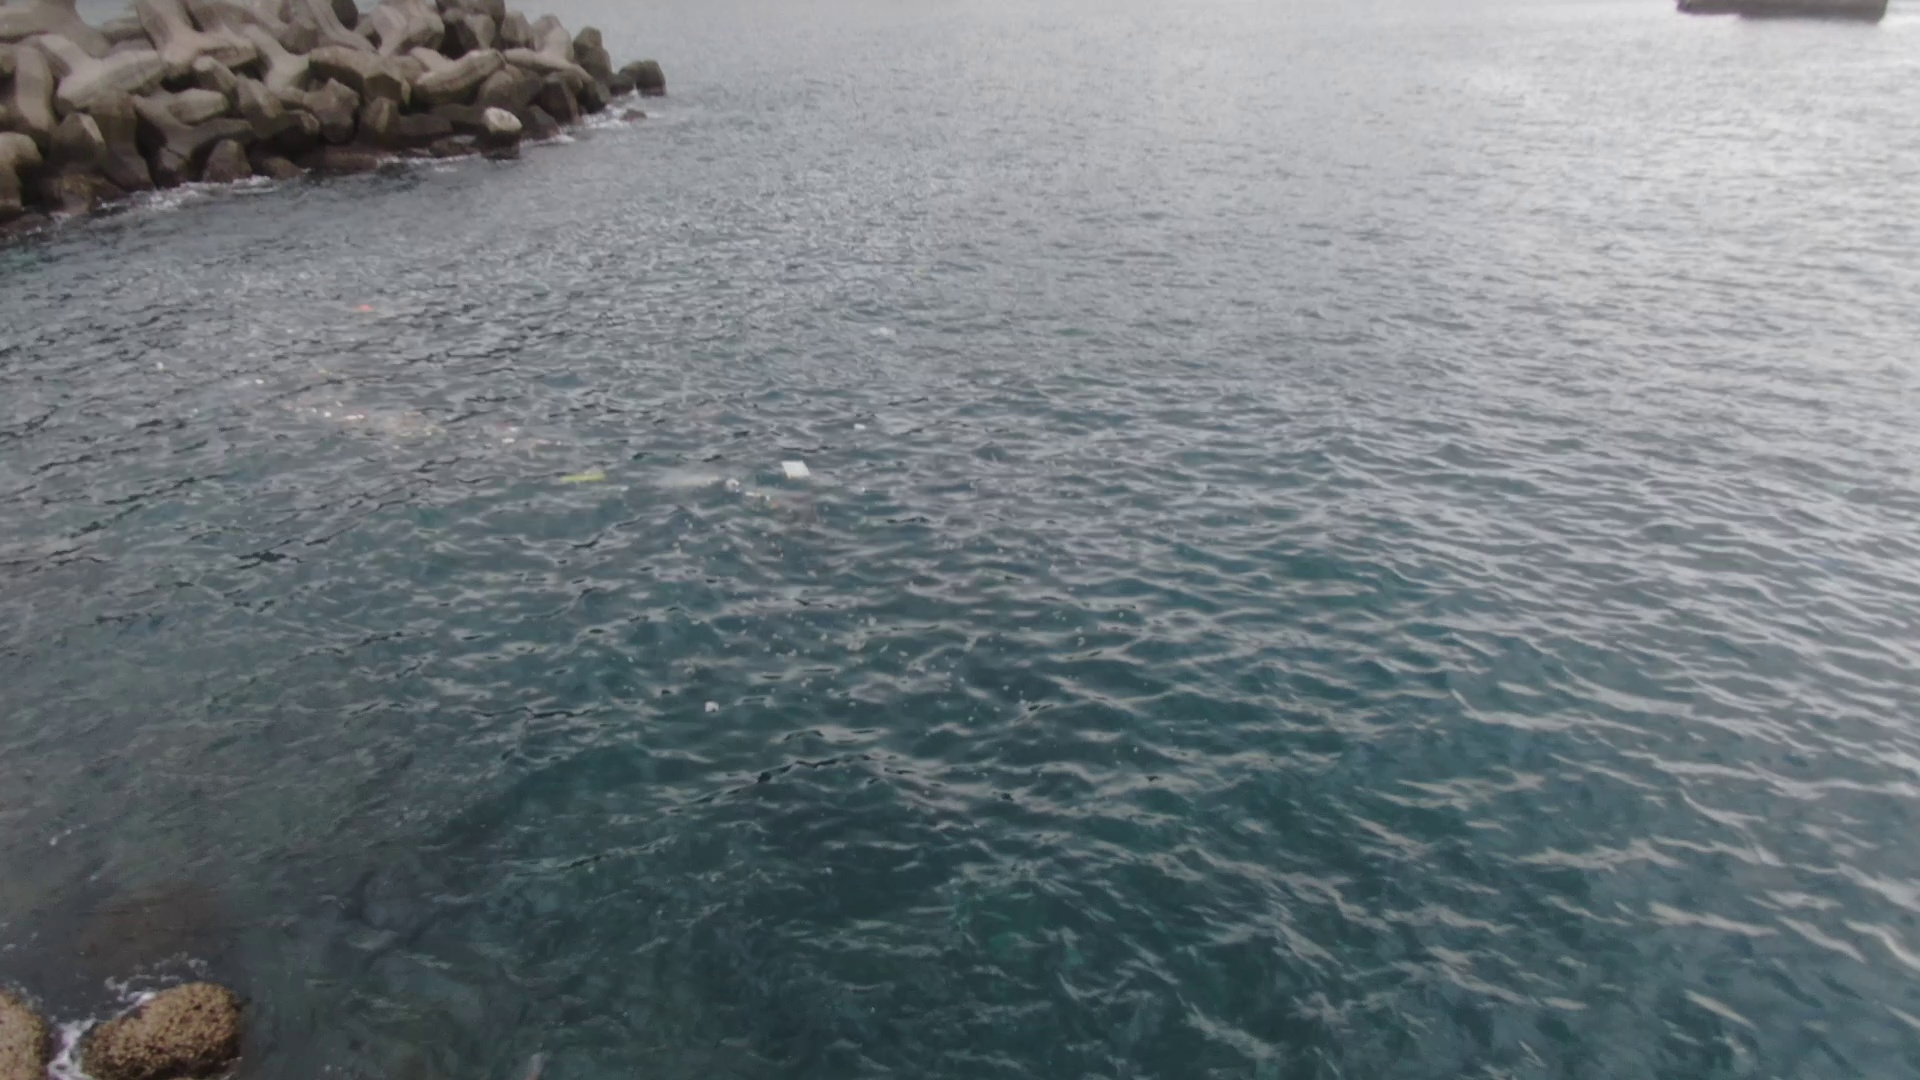garbage: (782, 460, 816, 488)
